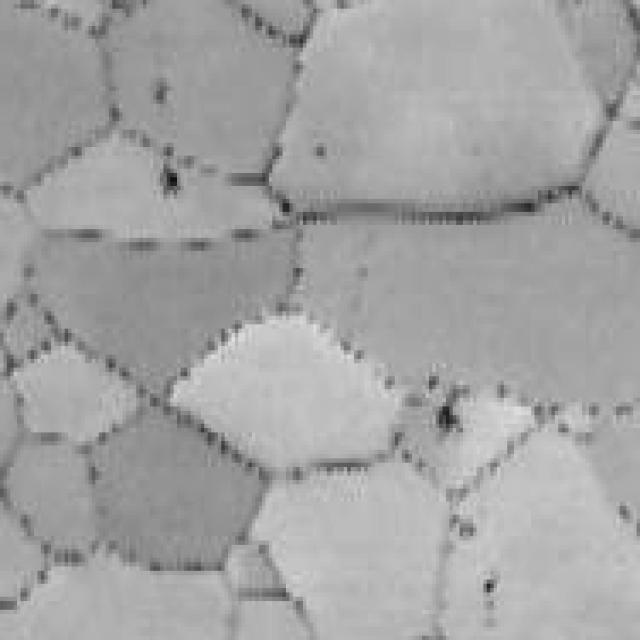good_void: (430, 389, 466, 436), (145, 161, 180, 201), (148, 77, 173, 112), (476, 573, 503, 595), (311, 144, 327, 163)
